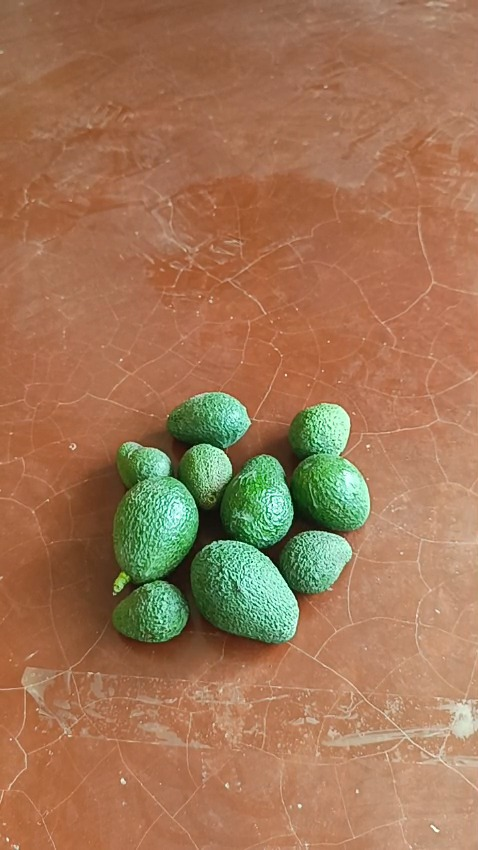Primera: (189, 540, 297, 642), (111, 474, 199, 584), (219, 454, 294, 548)
Segunda: (290, 453, 370, 532)
Tercera: (110, 578, 191, 644), (278, 530, 353, 594), (166, 392, 249, 449), (176, 442, 234, 510), (286, 402, 352, 461), (115, 441, 170, 489)
